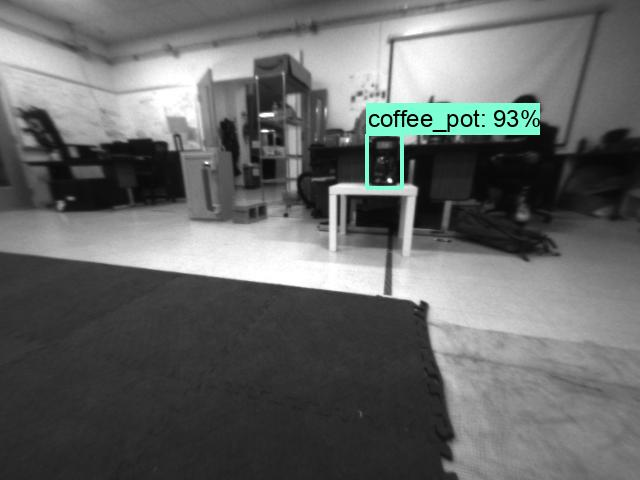coffee_pot: (369, 136, 403, 189)
